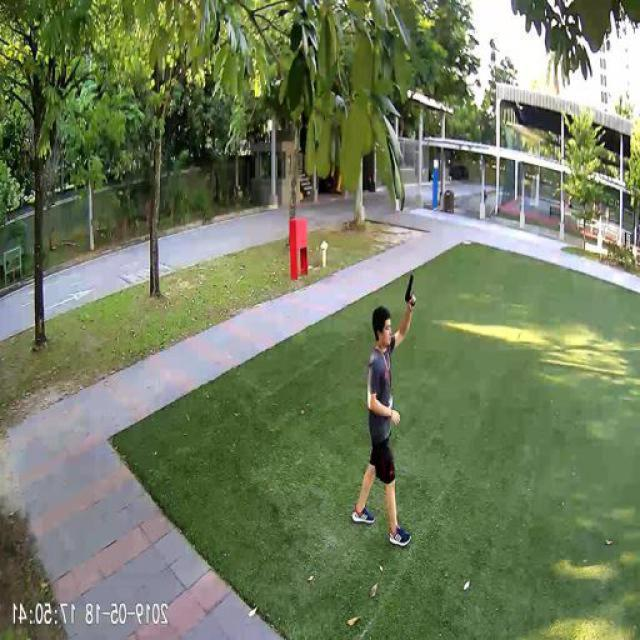weapon: (404, 272, 419, 307)
